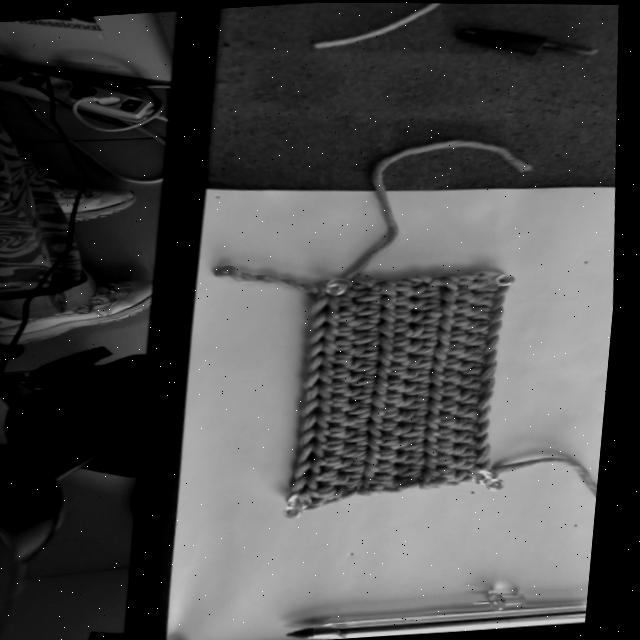ch: (482, 389, 499, 412), (491, 317, 507, 341), (487, 360, 504, 382), (484, 442, 500, 464), (494, 306, 508, 329), (487, 375, 500, 399), (489, 335, 504, 355), (480, 433, 495, 449), (485, 406, 499, 423), (498, 284, 512, 301), (482, 418, 495, 436), (497, 293, 509, 311), (490, 349, 500, 367)
hdc: (304, 438, 352, 467), (304, 425, 353, 449), (302, 455, 349, 480), (299, 468, 346, 493), (310, 380, 356, 403), (310, 367, 358, 389), (308, 395, 356, 417), (313, 325, 360, 347), (311, 353, 357, 375), (313, 339, 361, 360), (310, 410, 355, 431), (311, 296, 358, 316), (316, 311, 361, 331), (372, 306, 418, 323), (370, 349, 416, 366), (368, 376, 411, 394), (364, 405, 407, 423), (362, 447, 405, 465), (430, 341, 470, 360), (372, 335, 416, 352), (373, 320, 416, 337), (421, 412, 463, 429), (364, 419, 405, 436), (432, 314, 475, 330), (435, 272, 478, 288), (367, 392, 410, 408), (425, 384, 467, 400), (363, 434, 405, 450), (433, 328, 472, 345), (459, 342, 492, 362), (424, 398, 465, 414), (435, 299, 476, 315), (375, 294, 416, 310), (371, 363, 412, 379), (375, 279, 415, 295), (362, 462, 402, 478), (426, 370, 468, 385), (436, 286, 476, 301), (405, 339, 442, 354), (427, 467, 464, 482), (428, 358, 467, 372), (397, 408, 435, 422), (455, 360, 490, 375), (339, 443, 374, 458), (407, 310, 447, 323), (404, 325, 443, 338), (397, 423, 433, 437), (348, 289, 390, 301), (309, 483, 345, 497), (456, 404, 487, 420), (407, 285, 445, 298), (398, 395, 435, 408), (345, 372, 382, 385), (349, 302, 386, 315), (454, 417, 486, 432), (367, 474, 401, 488), (350, 330, 384, 344), (396, 450, 432, 463), (431, 426, 462, 441), (432, 439, 461, 455), (345, 400, 378, 414), (408, 298, 446, 310), (404, 355, 439, 368), (396, 436, 431, 449), (404, 367, 436, 381), (339, 458, 373, 471), (351, 344, 385, 357), (351, 317, 385, 330), (458, 374, 487, 389), (457, 389, 486, 404), (397, 475, 426, 490), (466, 305, 497, 319), (470, 278, 503, 291), (403, 381, 436, 394), (469, 291, 499, 305), (464, 319, 494, 333), (454, 455, 484, 469), (336, 472, 371, 484), (349, 358, 384, 370), (397, 464, 431, 476), (458, 430, 487, 444), (341, 429, 373, 441), (347, 387, 379, 399), (339, 483, 366, 497), (463, 332, 492, 345), (457, 442, 486, 455), (433, 454, 461, 467), (345, 416, 375, 428)
